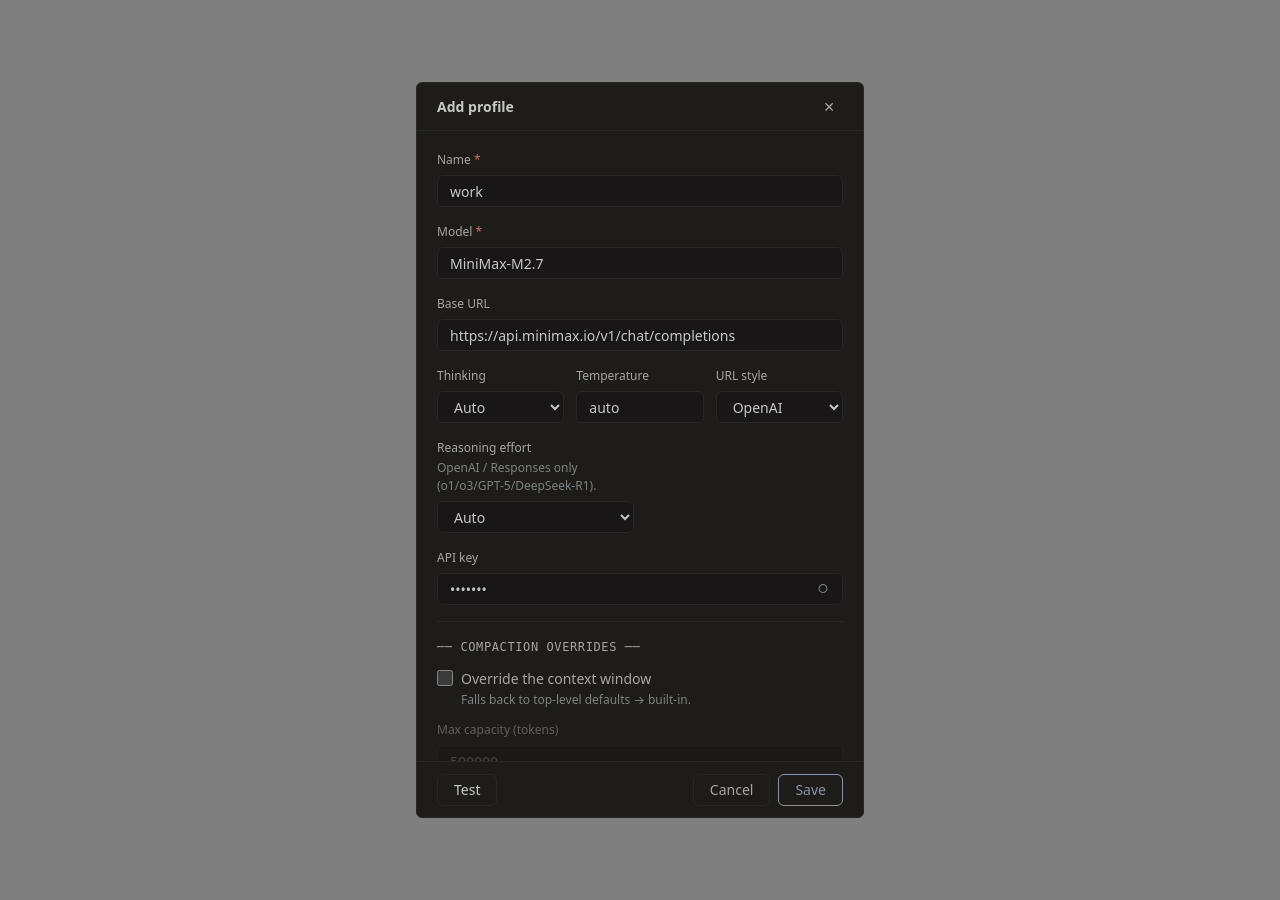
it: LlmConfigModal — Test LLM button › sends model/base_url/api_key/url_style and renders the green reply panel on success
Click the button with test id "llm-test-btn".
click(467, 790)  # box [437,774,498,806]
(page scrolled)
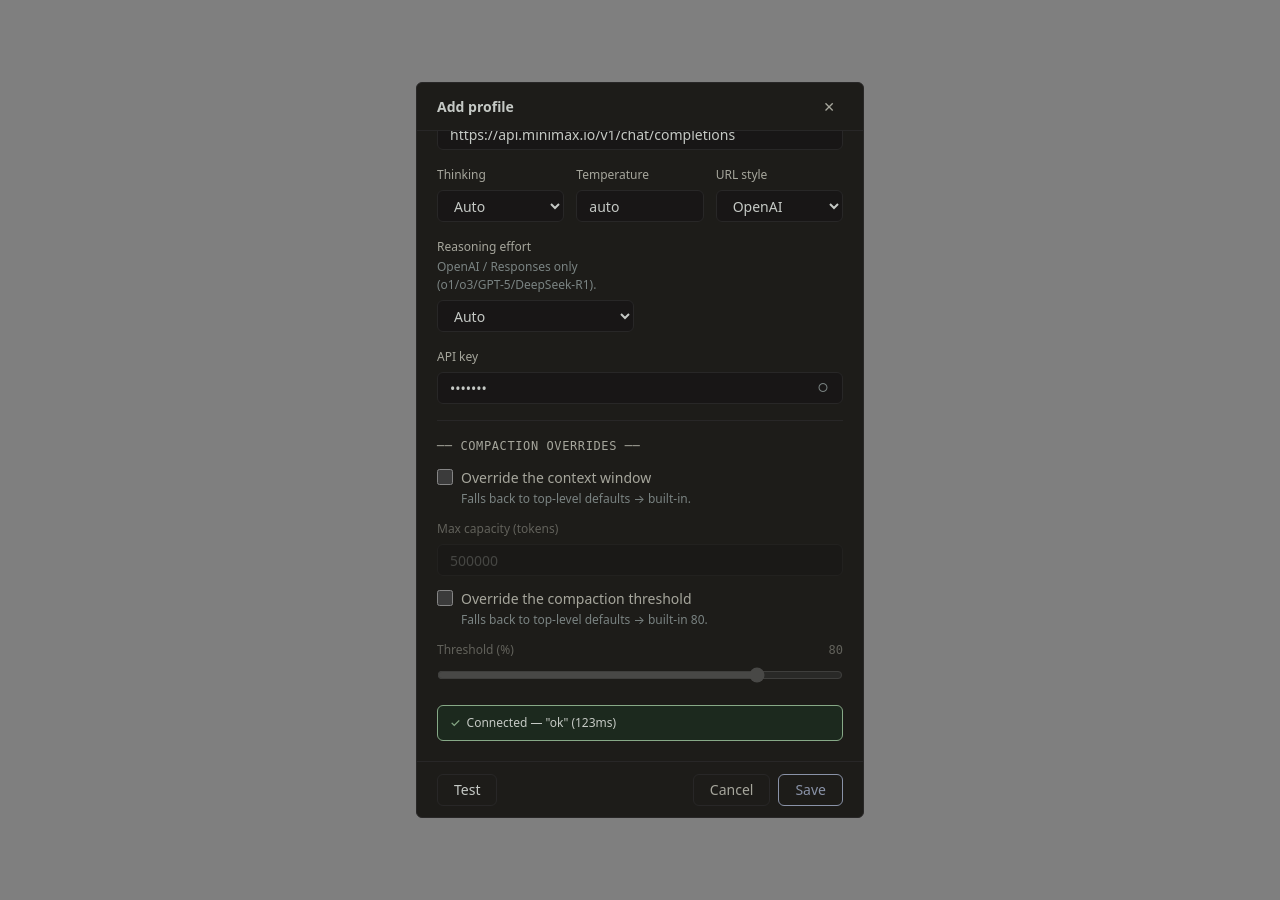
Now the element with test id "llm-test-result" is shown, box [437,705,843,741]
Now the element with test id "llm-test-result" shows "Connected", box [467,714,616,731]
Now the element with test id "llm-test-result" shows "ok", box [467,714,616,731]
